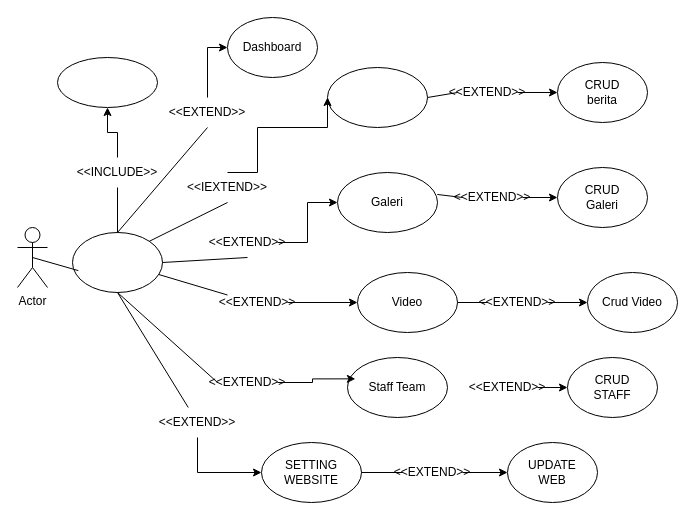
This 695x520 diagram has some shape labels left out. Here are the shapes that lost their labels. From the top down, the centre of each, then its label:
At (107,82): "Input username dan password".
At (377,97): "Berita".
At (117,262): "Login".
